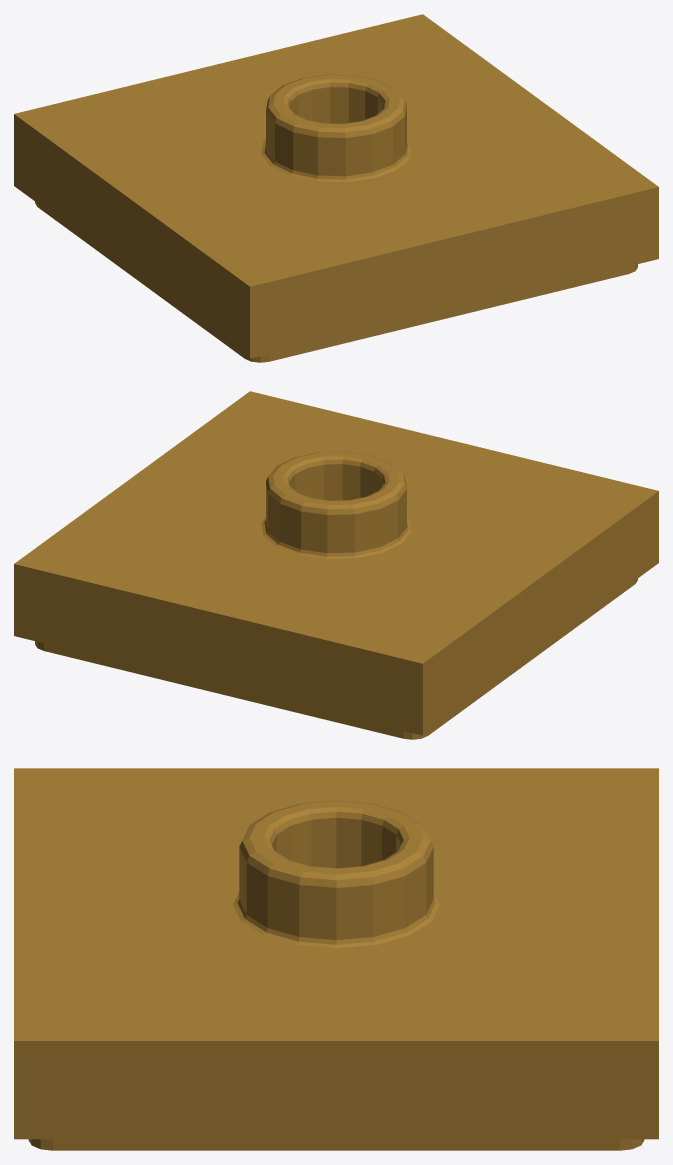
The model's file is 2x2 Plate 1 Stud Center.dae.
3 views of the same model, one above another, from view 1: azimuth 30°, elevation 25°; view 2: azimuth 150°, elevation 25°; view 3: azimuth 270°, elevation 25° (orthographic). The views are drawn at different scales.
Parts seen in each view (by area): view 1: Part.0; view 2: Part.0; view 3: Part.0.
Boxes of the visible parts, x1,y1,x2,y2 form: Part.0: (14,14,658,362); Part.0: (14,391,658,739); Part.0: (14,768,658,1150).
Size of the model in its own units: 15.92 by 4.98 by 15.92.
